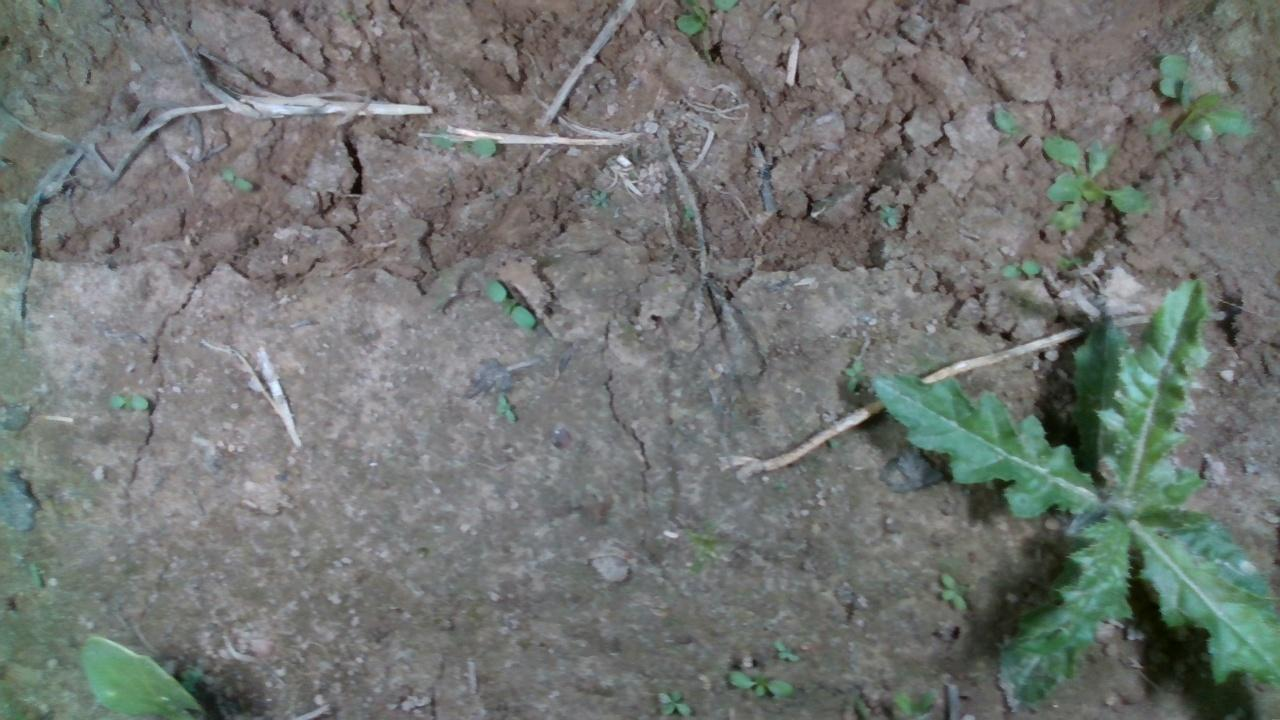weed: (481, 276, 535, 329), (724, 666, 794, 698), (936, 570, 970, 611), (654, 687, 692, 717), (217, 164, 253, 192), (997, 256, 1042, 278), (106, 389, 149, 411), (493, 390, 515, 425), (772, 636, 800, 662)
